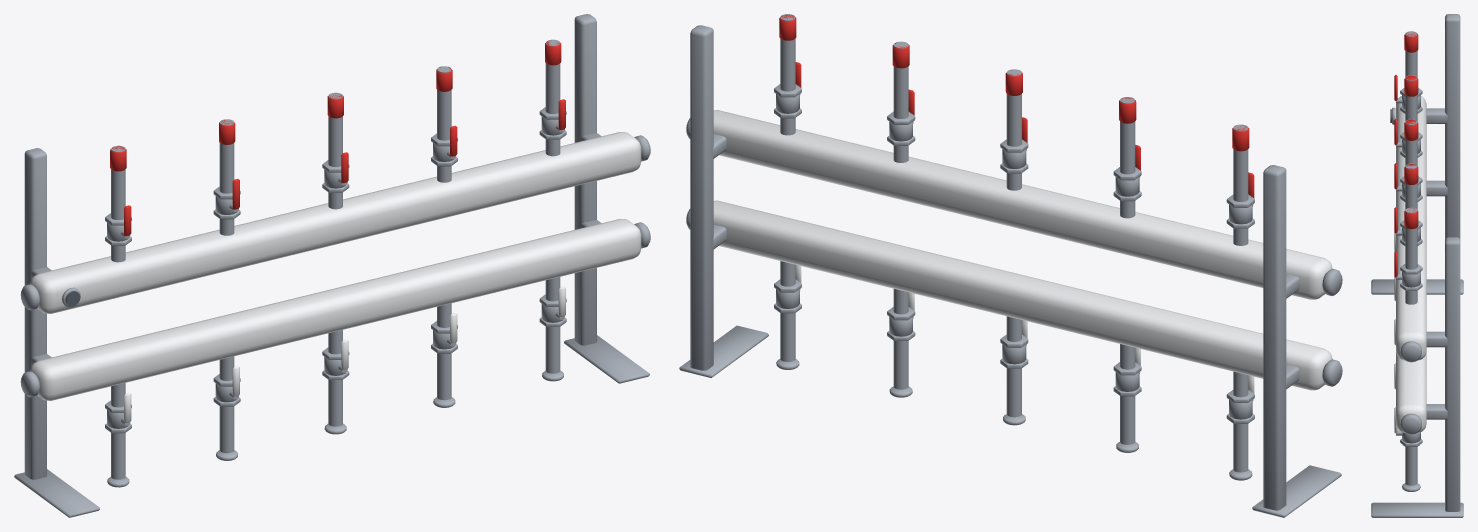
The model's file is heizung.verteiler.n5.glb.
3 views of the same model, side by side, from view 1: azimuth 30°, elevation 25°; view 2: azimuth 150°, elevation 25°; view 3: azimuth 270°, elevation 25° (orthographic). The views are drawn at different scales.
Visible parts, largest first — view 1: heizung.verteiler.n5; view 2: heizung.verteiler.n5; view 3: heizung.verteiler.n5.
Part boxes in pixels (box(x1,y1,x2,y2)): heizung.verteiler.n5: box(14, 14, 650, 517); heizung.verteiler.n5: box(679, 14, 1342, 517); heizung.verteiler.n5: box(1371, 14, 1463, 517).
Size of the model in its own units: 1.94 by 1 by 0.3.
